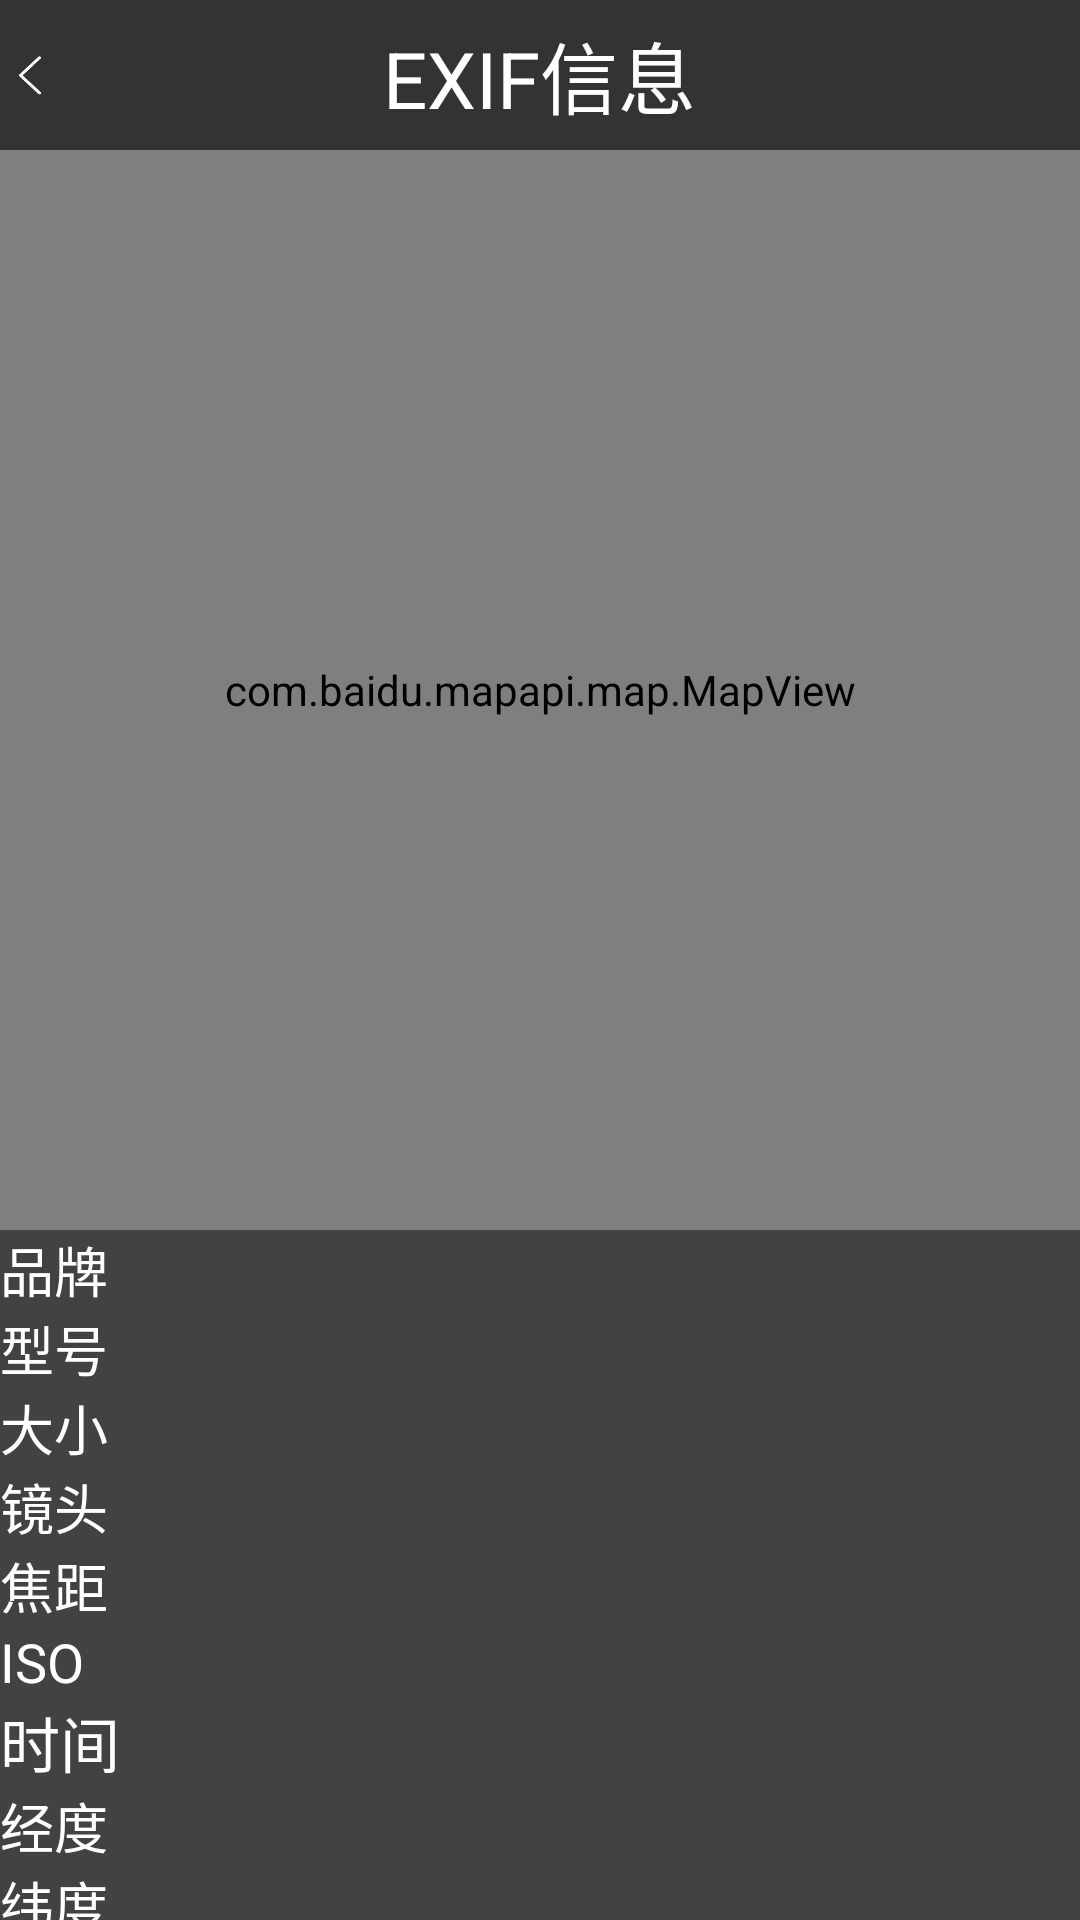

Screen size 1080px×1920px. Icon name, then its center in pixels as point (x, y):
back: point (30, 75)
